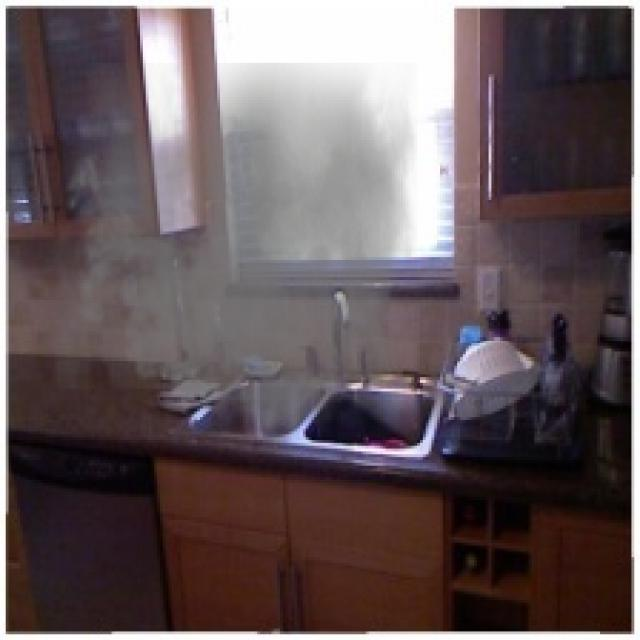smoke: (54, 63, 417, 454)
